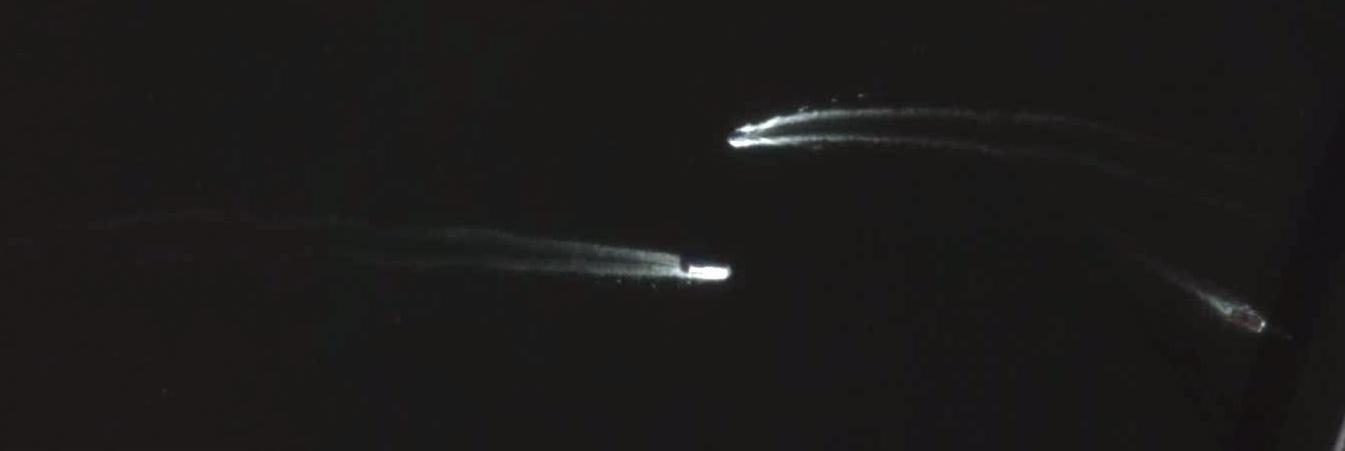person: (1228, 308, 1267, 333), (688, 265, 731, 280), (727, 131, 746, 141)
